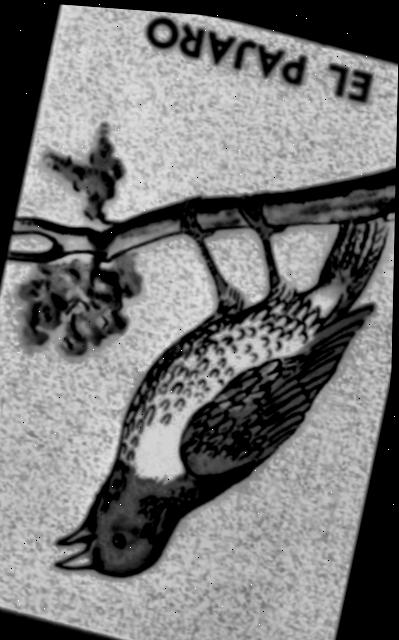El Pajaro: (0, 4, 398, 640)
